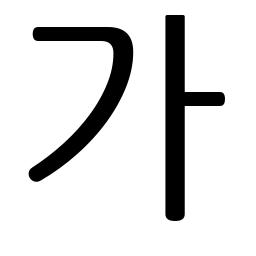Gaji: (153, 79, 207, 125)
